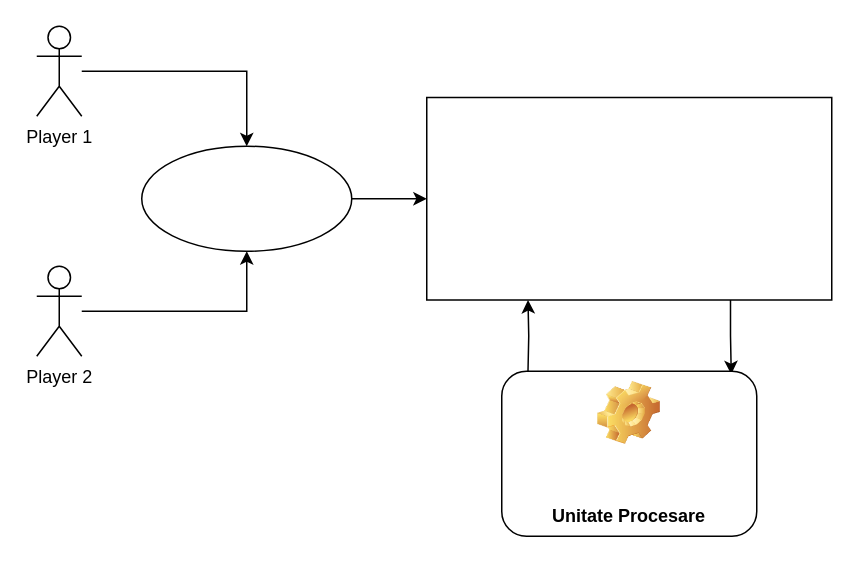
The diagram is 858 pixels wide and 563 high, and some of its shapes have lost their labels. The shapes that lost their labels are listed below. From the top down, each one's centre as x and y in pixels, then its label:
At point 246,198: "Evenimente Utilizator".
At point 628,198: "Interfață aplicație".
